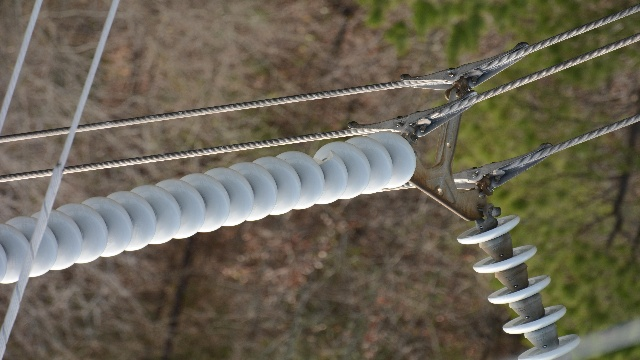broken_local: (312, 147, 336, 168)
insulator_unspecified: (0, 132, 418, 284), (457, 213, 583, 359)
